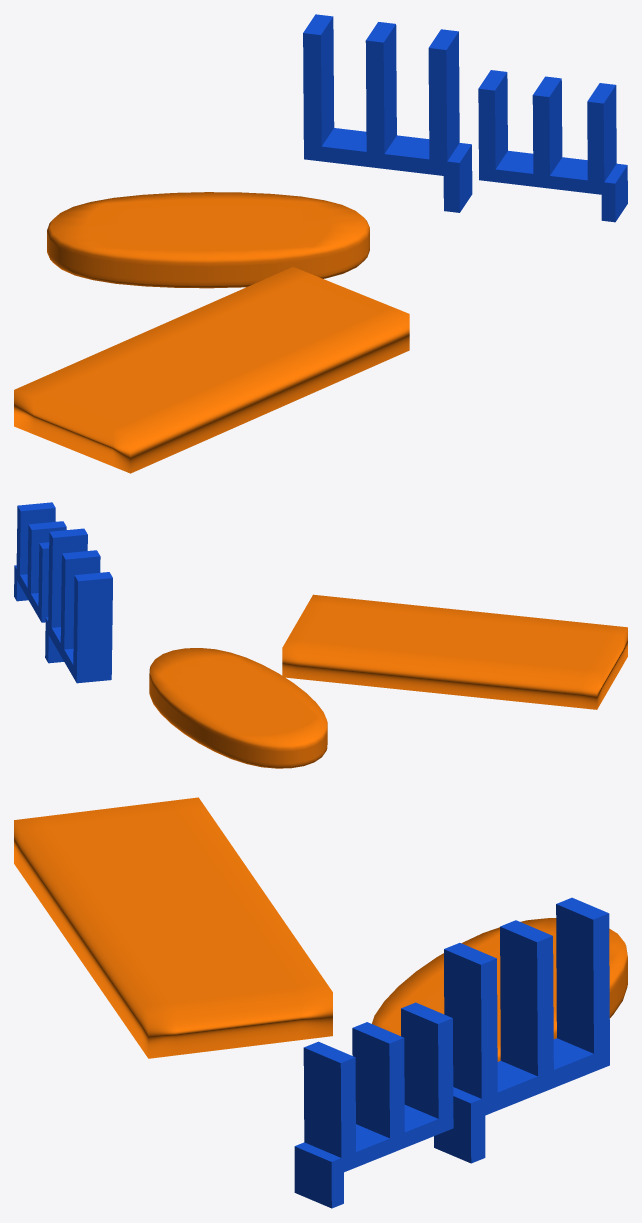
3 renders of one model, top to bottom at view 1: azimuth 30°, elevation 25°; view 2: azimuth 150°, elevation 25°; view 3: azimuth 270°, elevation 25°, orthographic. The views are drawn at different scales.
Visible parts, largest first — view 1: Cube, Mesh_0.031, Cube.001; view 2: Cube, Cube.001, Mesh_0.031; view 3: Cube, Mesh_0.031, Cube.001.
Part boxes in pixels (box(x1,y1,x2,y2)): Cube: box(14, 267, 409, 473); Mesh_0.031: box(303, 14, 627, 222); Cube.001: box(47, 192, 369, 288); Cube: box(282, 594, 627, 709); Cube.001: box(149, 648, 327, 768); Mesh_0.031: box(14, 502, 112, 683); Cube: box(14, 797, 332, 1058); Mesh_0.031: box(294, 897, 609, 1208); Cube.001: box(372, 918, 627, 1061).
Size of the model in its own units: 54.24 by 13.23 by 36.13.
